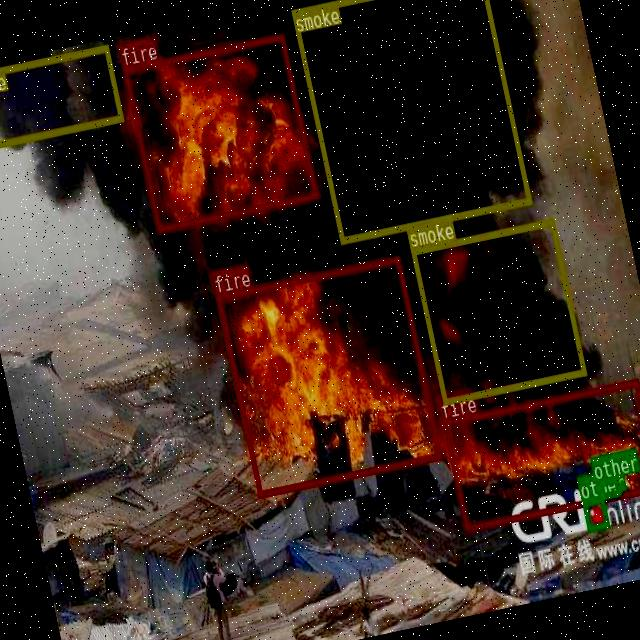fire: (215, 254, 440, 496), (121, 32, 317, 232), (440, 378, 640, 530)
smoke: (290, 0, 531, 243), (409, 218, 586, 404), (0, 44, 122, 151)
